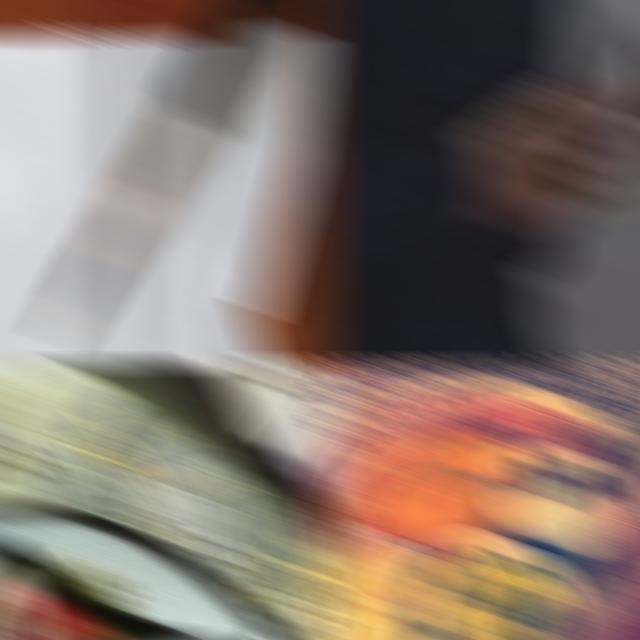Knife: (592, 0, 640, 108)
Knife_Handle: (482, 0, 640, 232)
